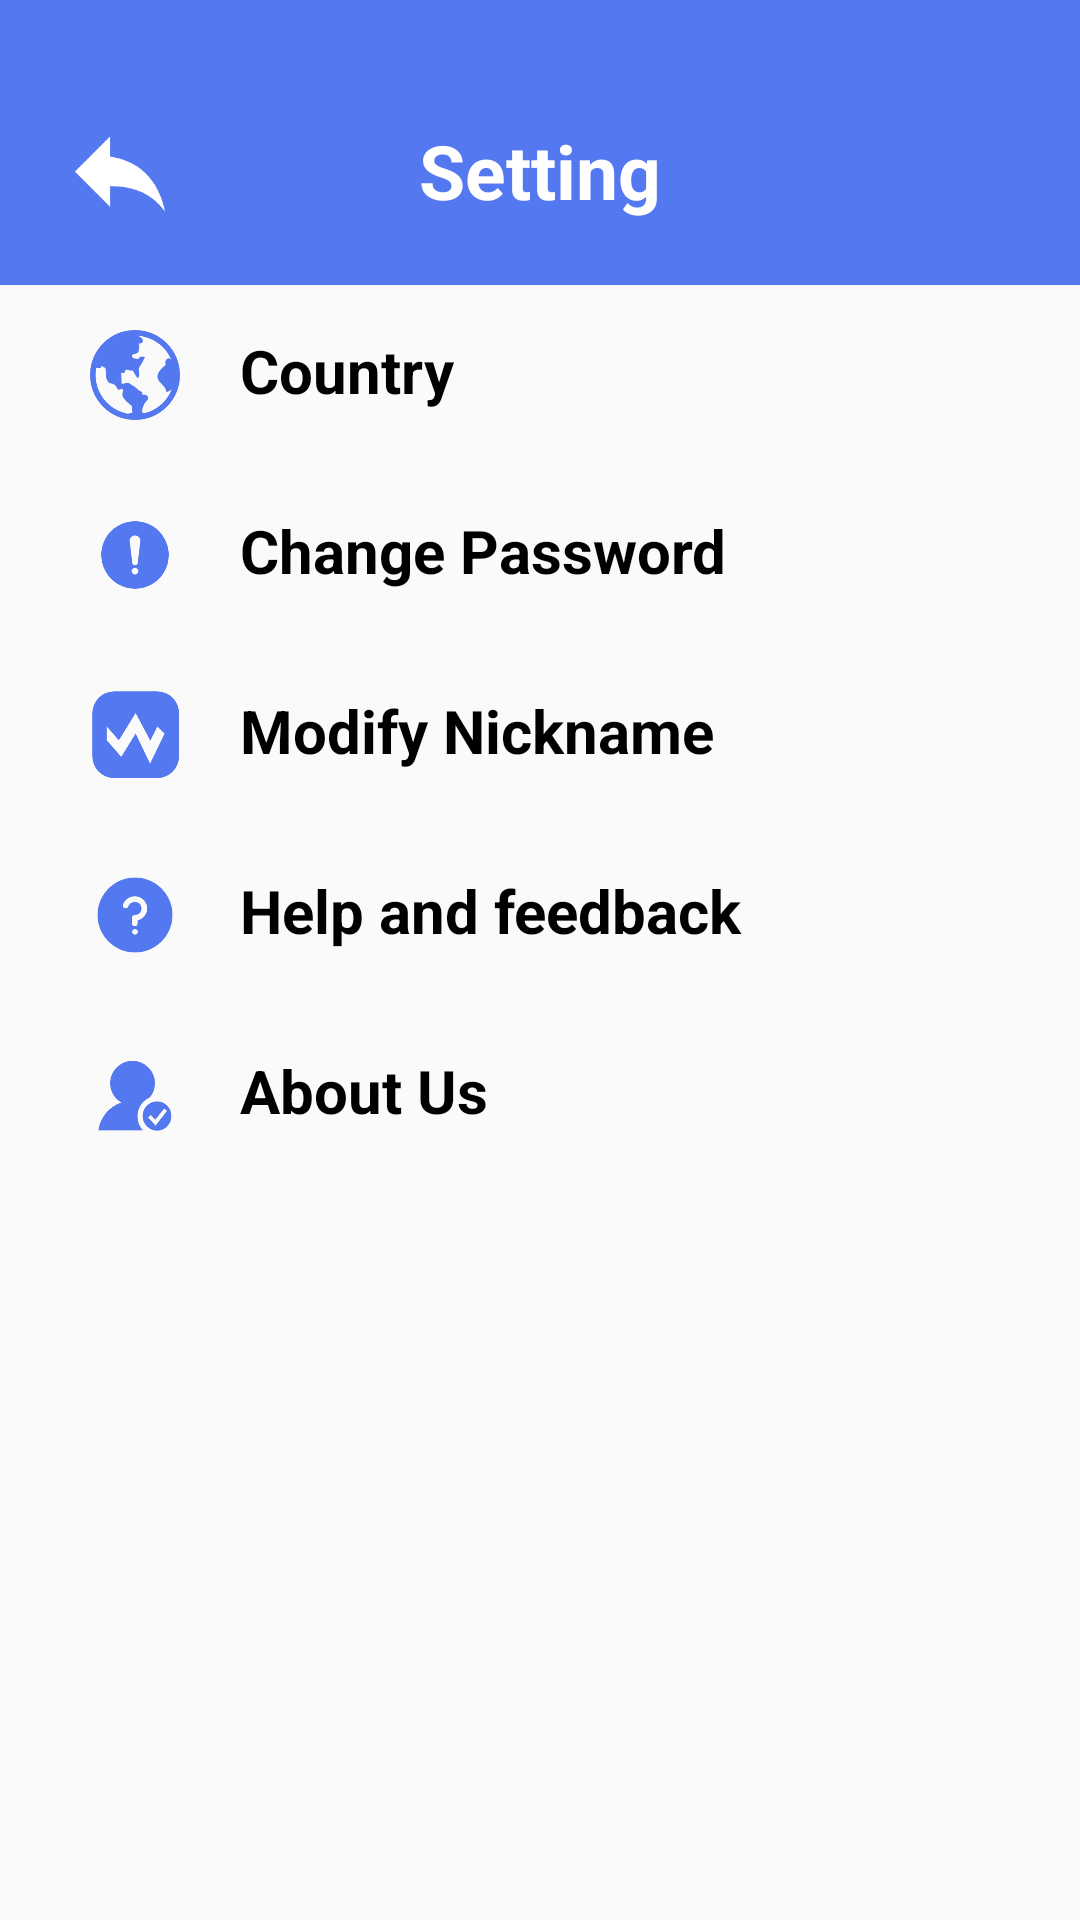

Icons on this 1080×1920 Android screen, each with its box as (x1, y1, x2, y2):
back: (75, 137, 165, 212)
language: (90, 330, 180, 420)
popup: (101, 521, 169, 589)
